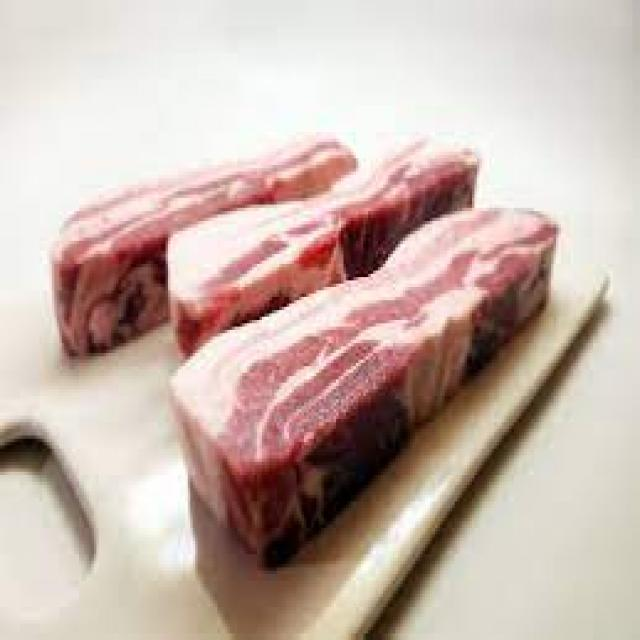pork belly: (173, 211, 558, 562), (171, 142, 477, 355)
